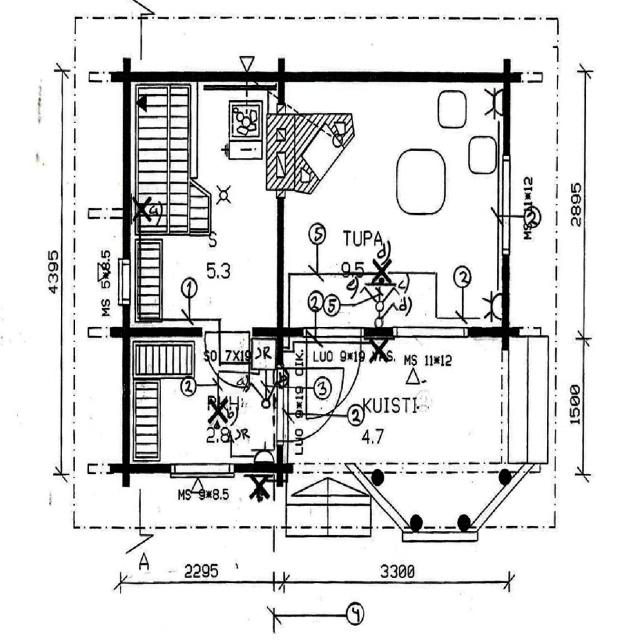door: (277, 368, 340, 440), (306, 328, 360, 406), (205, 328, 249, 394)
